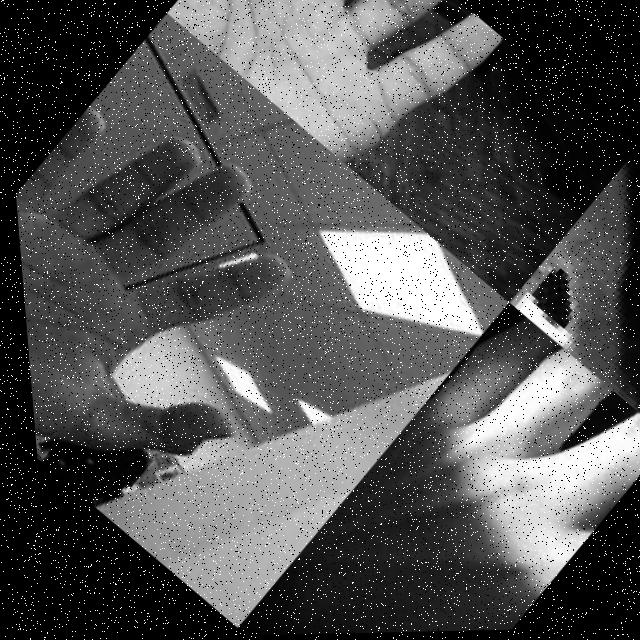hand: (5, 66, 377, 549), (210, 302, 640, 637), (165, 0, 515, 198), (494, 153, 640, 443)
